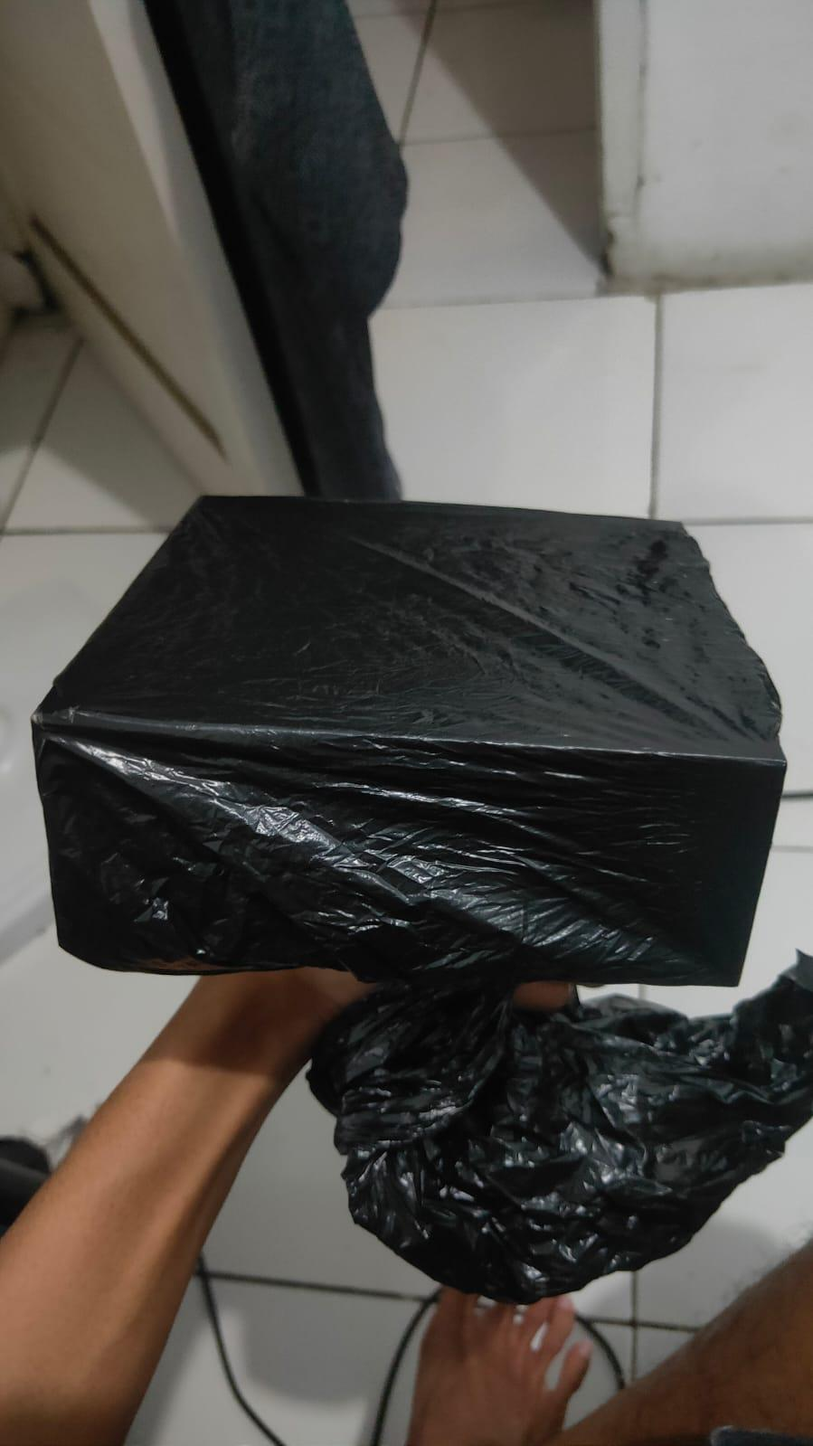undamaged: (14, 469, 805, 997)
